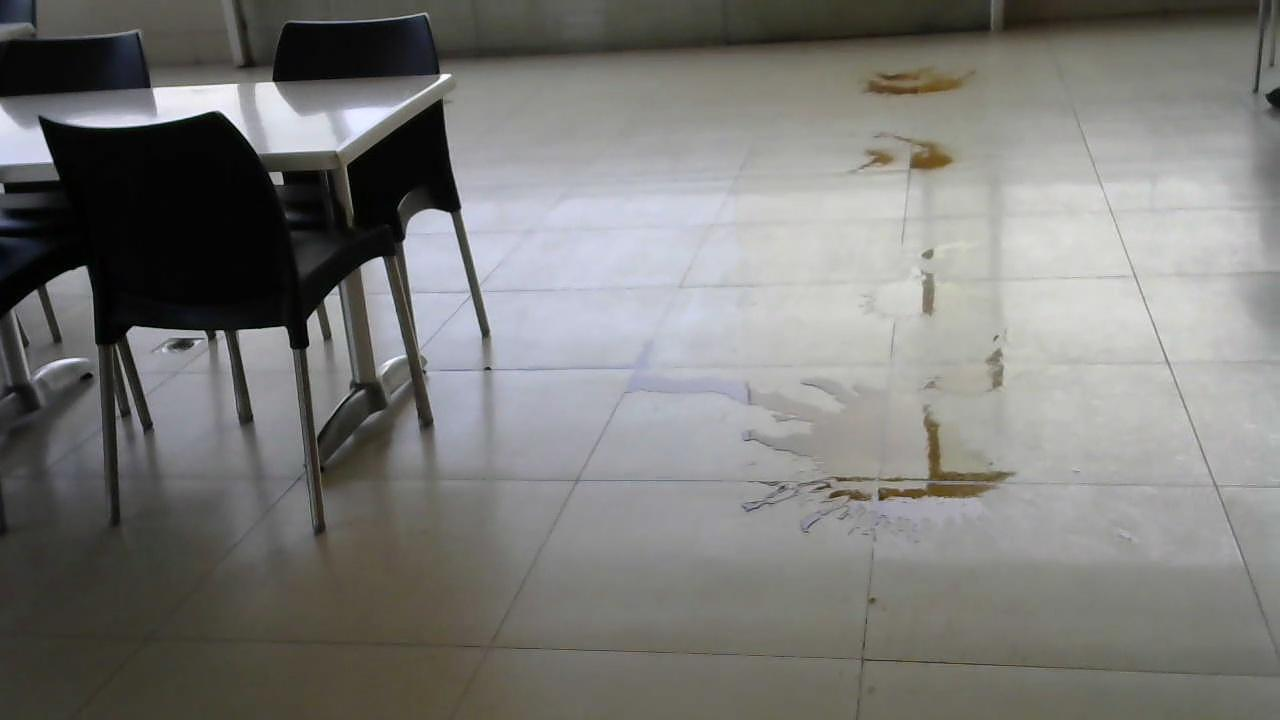dirty_floor: (616, 336, 1025, 542), (848, 232, 985, 325), (842, 124, 964, 185), (854, 66, 978, 102)
